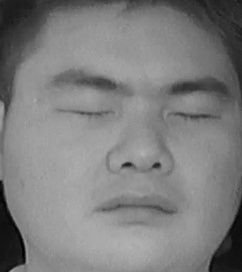blink: (62, 90, 118, 129), (167, 97, 222, 134)
mouth: (93, 182, 184, 235)
